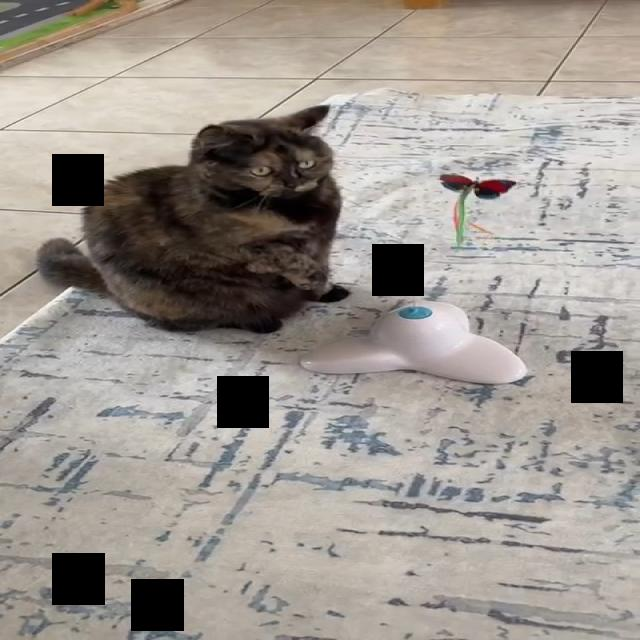authorized: (33, 104, 351, 334)
